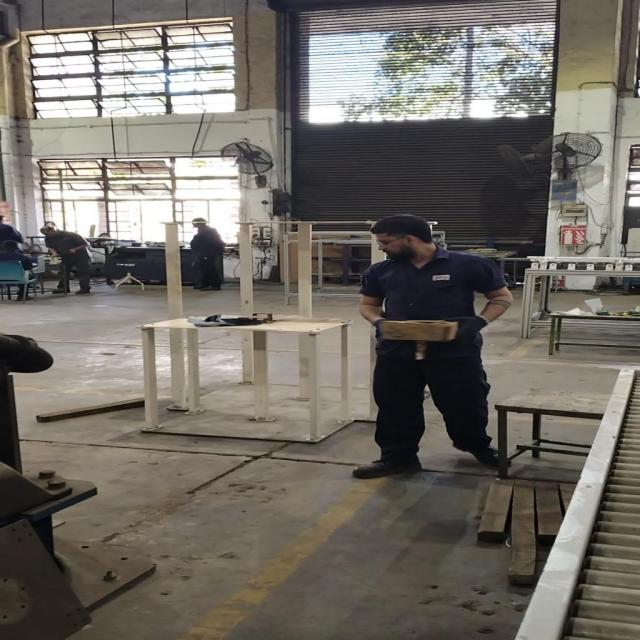Gloves-Detection: (459, 316, 484, 338)
